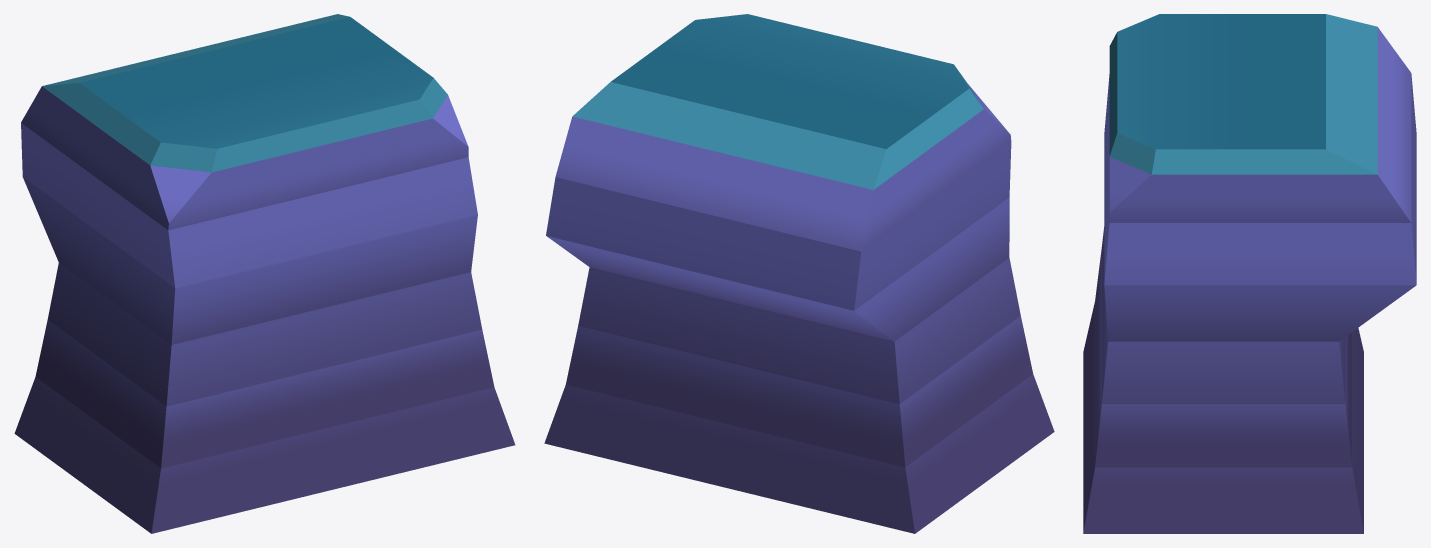
The model's file is StoneWall027.fbx.
3 views of the same model, side by side, from view 1: azimuth 30°, elevation 25°; view 2: azimuth 150°, elevation 25°; view 3: azimuth 270°, elevation 25° (orthographic). The views are drawn at different scales.
Visible parts, largest first — view 1: StoneWall027; view 2: StoneWall027; view 3: StoneWall027.
Part boxes in pixels (x1,y1,x2,y2): StoneWall027: (14,14,515,533); StoneWall027: (544,14,1054,533); StoneWall027: (1083,14,1416,533).
Bounding box in the file's own units: 482 × 446 × 373.
